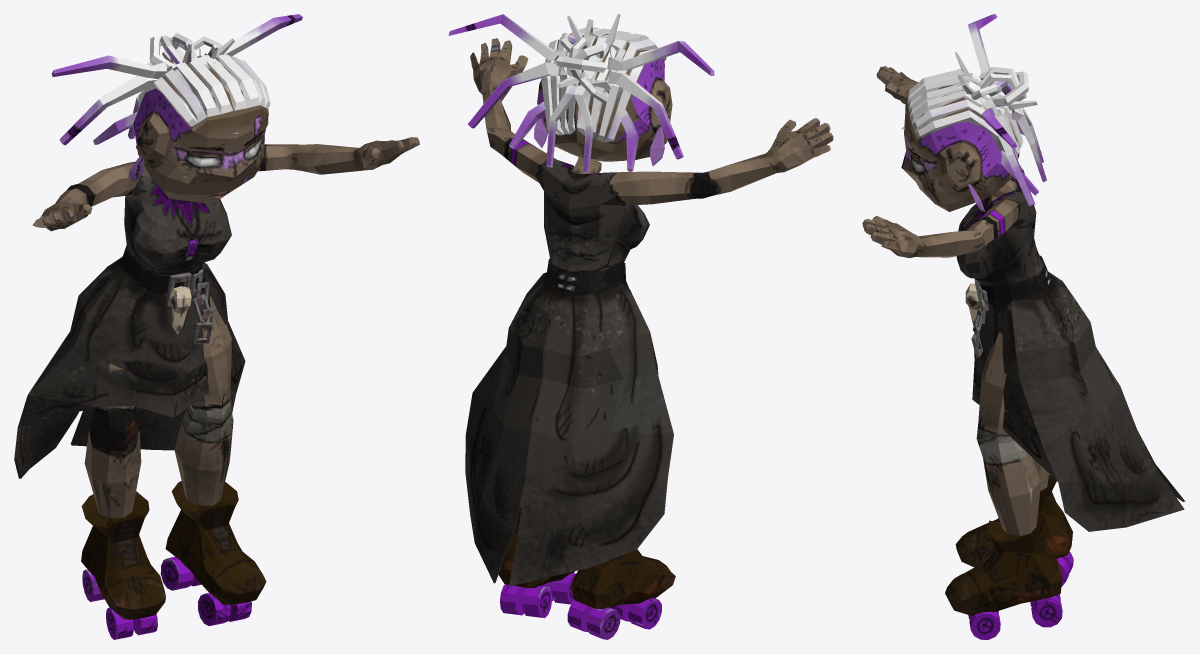
The model's file is bruja_000215.obj.
3 views of the same model, side by side, from view 1: azimuth 30°, elevation 25°; view 2: azimuth 150°, elevation 25°; view 3: azimuth 270°, elevation 25° (orthographic). The views are drawn at different scales.
Visible parts, largest first — view 1: Bruja_Plane.001; view 2: Bruja_Plane.001; view 3: Bruja_Plane.001.
Boxes of the visible parts, left/top/right/bottom form: Bruja_Plane.001: left=14, top=14, right=419, bottom=639; Bruja_Plane.001: left=448, top=14, right=833, bottom=639; Bruja_Plane.001: left=862, top=14, right=1185, bottom=639.
Bounding box in the file's own units: 10.78 × 16.49 × 8.66.
